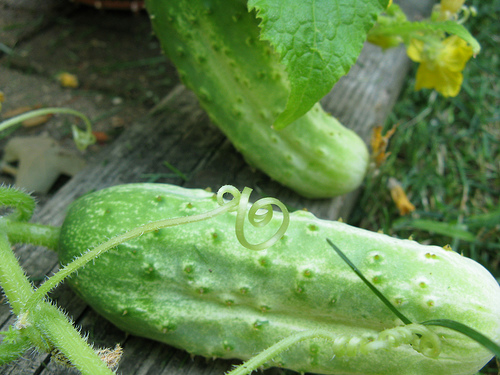cucumber: (57, 182, 499, 374), (142, 0, 371, 199)
